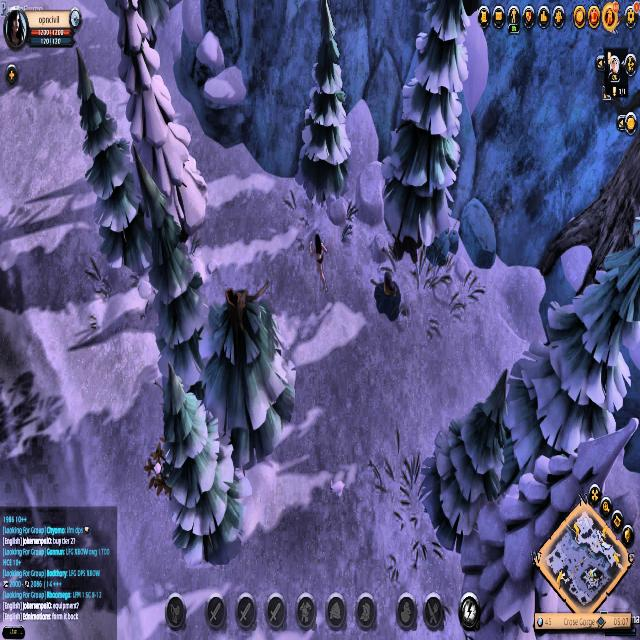copper_ore: (373, 272, 408, 322)
